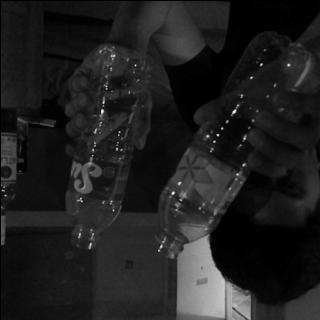plastic_bottles: (150, 28, 308, 260), (62, 46, 154, 250)
